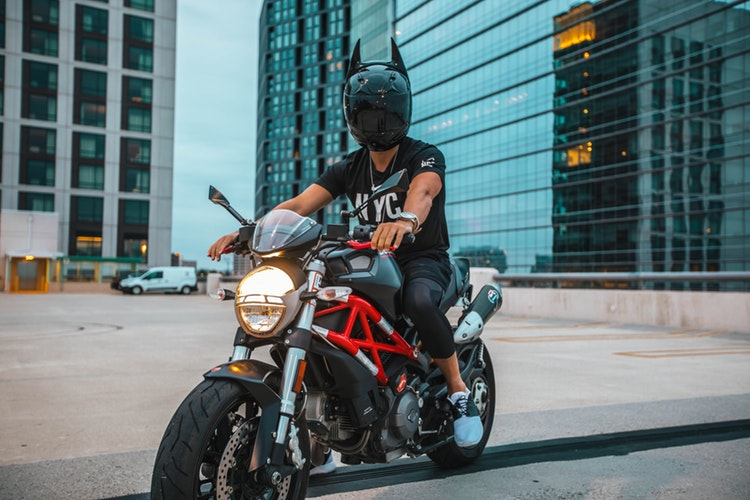helmet: (341, 65, 413, 142)
